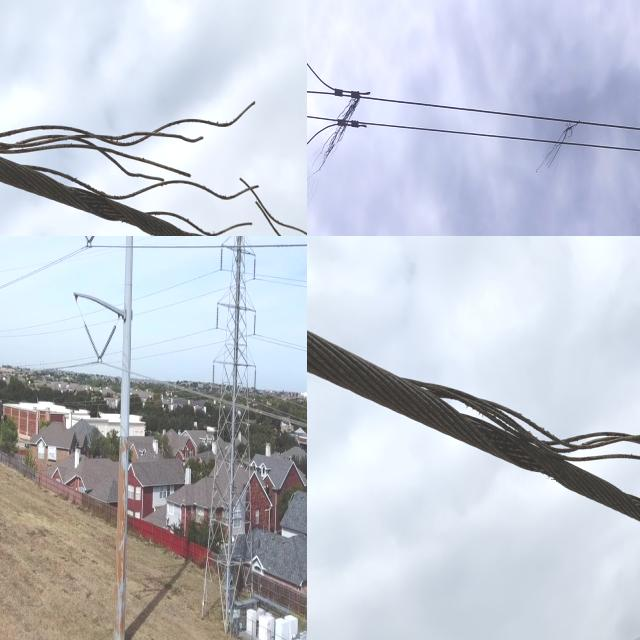杆塔: (190, 236, 273, 640)
植被遮挡: (307, 87, 362, 191), (528, 109, 586, 185)
正常绝缘子: (78, 314, 105, 368), (93, 319, 121, 369), (250, 358, 261, 402), (217, 239, 227, 283), (208, 356, 218, 399), (250, 249, 261, 288), (82, 236, 100, 258), (212, 301, 223, 335), (251, 306, 260, 343), (81, 236, 94, 255)
电缆破损: (0, 74, 307, 236), (381, 352, 640, 538)
